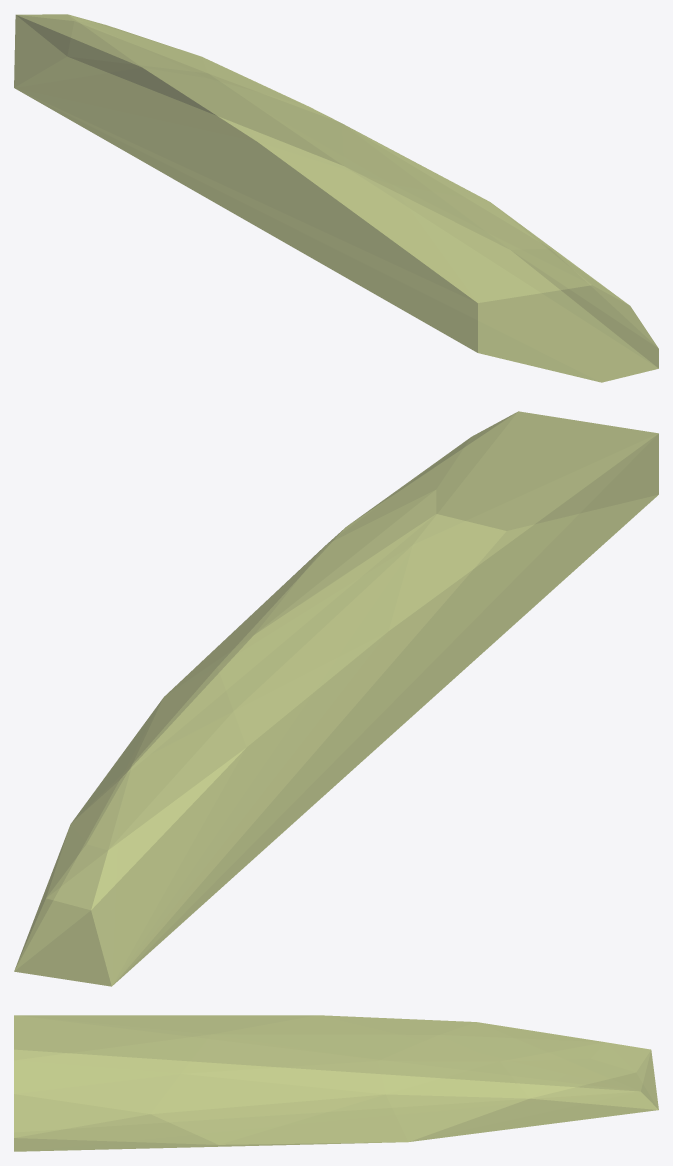
The picture shows the model from 3 angles, top to bottom: view 1: azimuth 30°, elevation 25°; view 2: azimuth 150°, elevation 25°; view 3: azimuth 270°, elevation 25°; orthographic projection. The views are drawn at different scales.
Parts seen in each view (by area): view 1: Shape_IndexedFaceSet.002_Shape_IndexedFaceSet.6184; view 2: Shape_IndexedFaceSet.002_Shape_IndexedFaceSet.6184; view 3: Shape_IndexedFaceSet.002_Shape_IndexedFaceSet.6184.
Part boxes in pixels (x1,y1,x2,y2): Shape_IndexedFaceSet.002_Shape_IndexedFaceSet.6184: (14, 14, 658, 382); Shape_IndexedFaceSet.002_Shape_IndexedFaceSet.6184: (14, 411, 658, 986); Shape_IndexedFaceSet.002_Shape_IndexedFaceSet.6184: (14, 1015, 658, 1151).
Size of the model in its own units: 0.0468 by 0.0271 by 0.1992.
